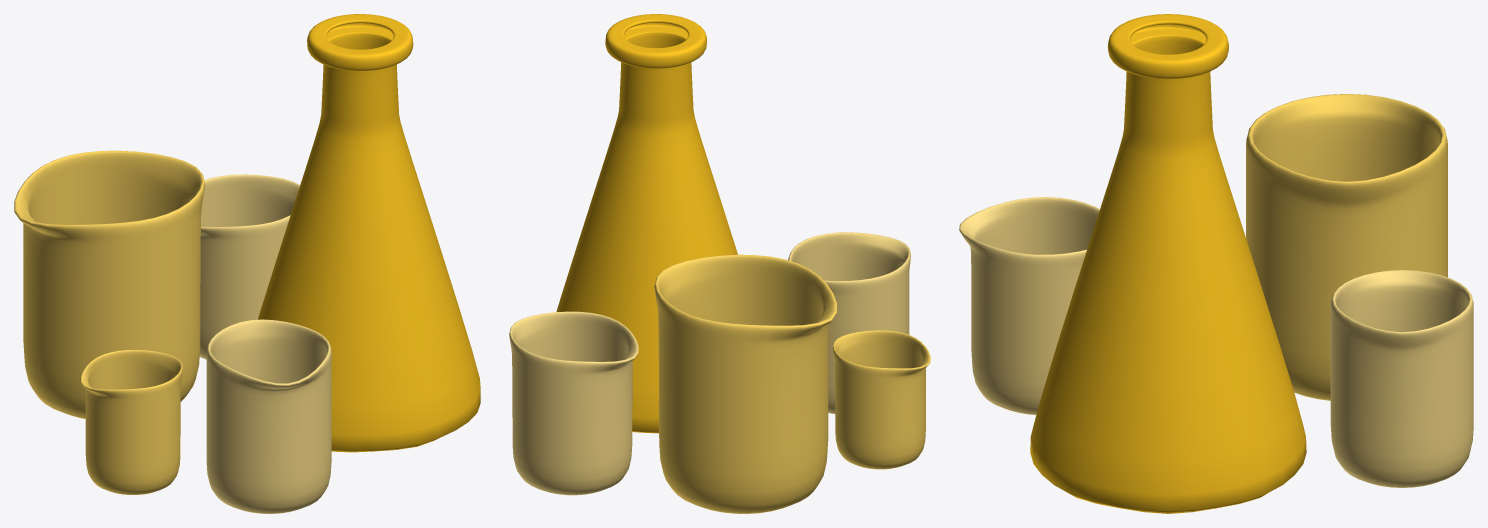
Rendered from Beaker_Group4.glb.
3 renders of one model, left to right at view 1: azimuth 30°, elevation 25°; view 2: azimuth 150°, elevation 25°; view 3: azimuth 270°, elevation 25°, orthographic. The views are drawn at different scales.
Visible parts, largest first — view 1: pCylinder6, pCylinder2, pCylinder3, pCylinder8, pCylinder9; view 2: pCylinder2, pCylinder6, pCylinder9, pCylinder8, pCylinder3; view 3: pCylinder6, pCylinder2, pCylinder9, pCylinder3.
Part boxes in pixels (x1,y1,x2,y2): pCylinder6: (258, 14, 480, 452); pCylinder2: (14, 150, 205, 418); pCylinder3: (206, 319, 331, 513); pCylinder8: (80, 350, 182, 494); pCylinder9: (199, 174, 299, 359); pCylinder2: (654, 254, 837, 513); pCylinder6: (556, 14, 737, 433); pCylinder9: (509, 311, 638, 495); pCylinder8: (832, 330, 930, 469); pCylinder3: (788, 232, 910, 413); pCylinder6: (1030, 14, 1306, 513); pCylinder2: (1246, 94, 1447, 400); pCylinder9: (1330, 270, 1473, 487); pCylinder3: (959, 197, 1099, 414).
Size of the model in its own units: 1.25 by 1.21 by 1.27.
